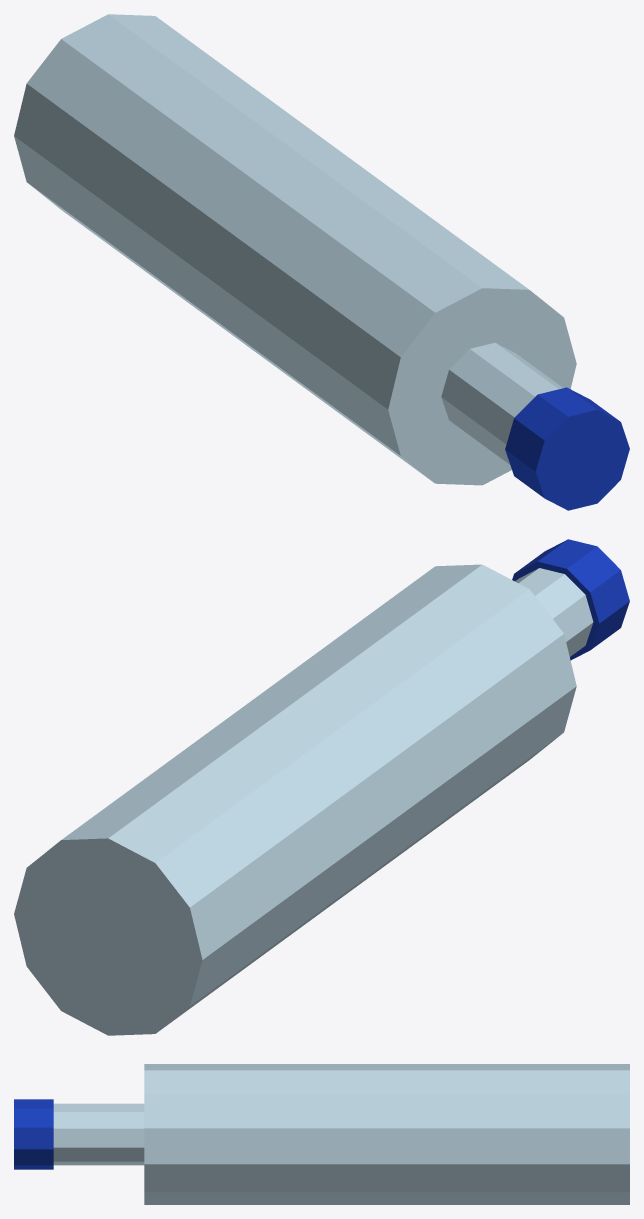
File: basura_botella.obj
3 renders of one model, top to bottom at view 1: azimuth 30°, elevation 25°; view 2: azimuth 150°, elevation 25°; view 3: azimuth 270°, elevation 25°, orthographic. The views are drawn at different scales.
Visible parts, largest first — view 1: Export_Botella; view 2: Export_Botella; view 3: Export_Botella.
Boxes of the visible parts, x1,y1,x2,y2 form: Export_Botella: [14, 14, 629, 510]; Export_Botella: [14, 539, 629, 1035]; Export_Botella: [14, 1064, 629, 1204].
Bounding box in the file's own units: 0.064 × 0.064 × 0.279.
